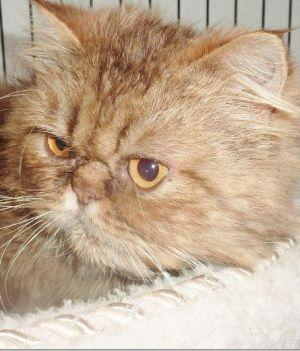persian: (1, 1, 300, 314)
